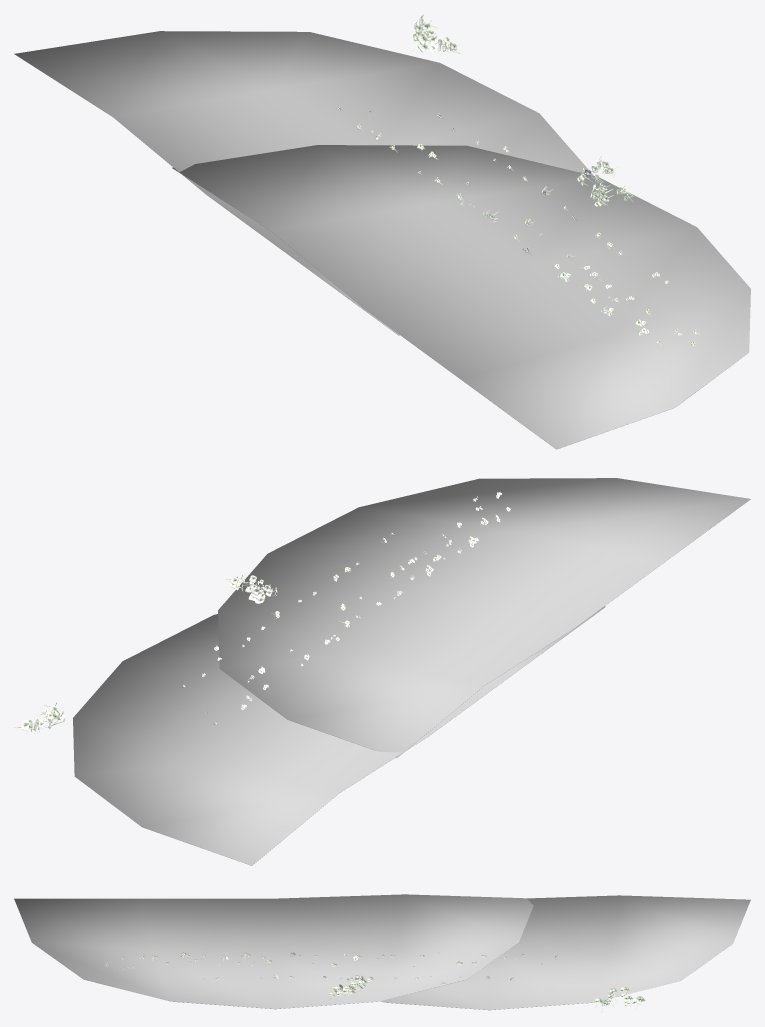
File: vegetation.glb
The picture shows the model from 3 angles, top to bottom: view 1: azimuth 30°, elevation 25°; view 2: azimuth 150°, elevation 25°; view 3: azimuth 270°, elevation 25°; orthographic projection. The views are drawn at different scales.
Parts seen in each view (by area): view 1: Plane, Plane.001; view 2: Plane, Plane.001; view 3: Plane, Plane.001.
Boxes of the visible parts, left/top/right/bottom form: Plane: left=172, top=145, right=750, bottom=449; Plane.001: left=14, top=31, right=593, bottom=335; Plane: left=218, top=478, right=750, bottom=757; Plane.001: left=73, top=606, right=605, bottom=865; Plane: left=14, top=894, right=533, bottom=1009; Plane.001: left=381, top=895, right=750, bottom=1010.
Bounding box in the file's own units: 14.78 × 1.46 × 40.87.
